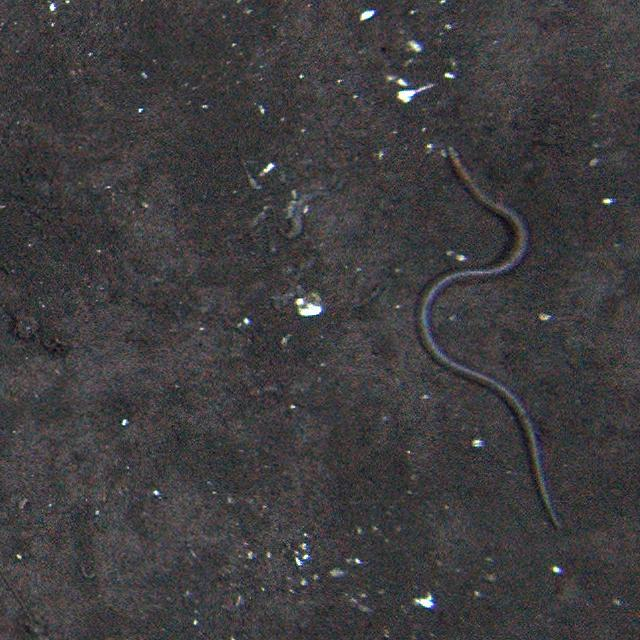eel: (418, 145, 568, 533)
